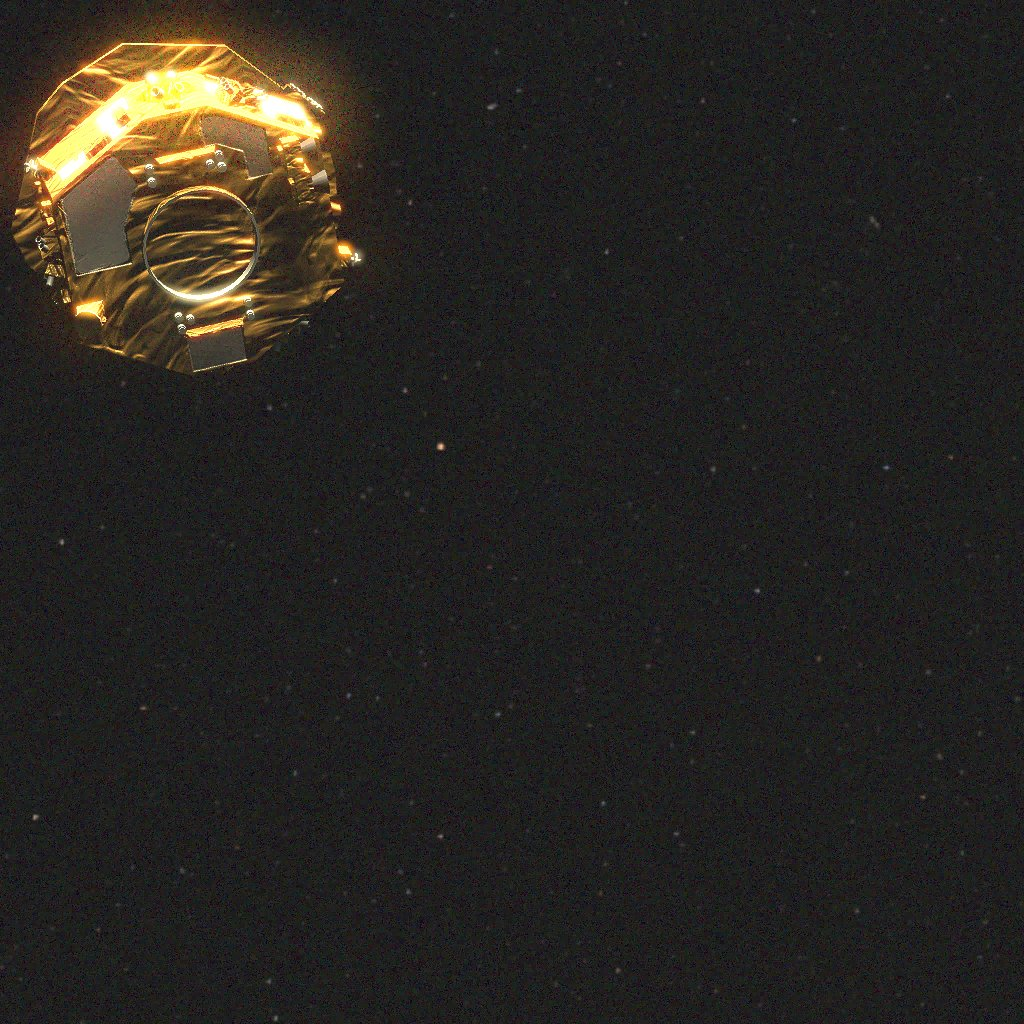lisa_pathfinder: (29, 30, 363, 393)
